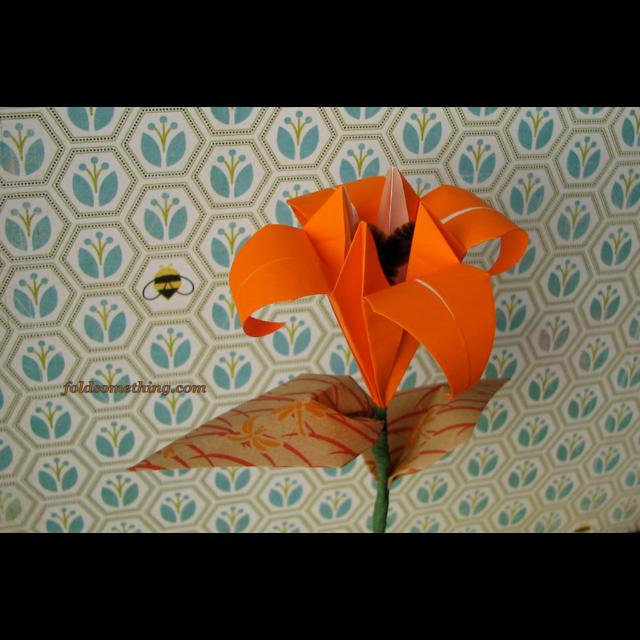Flower: (210, 184, 518, 386)
